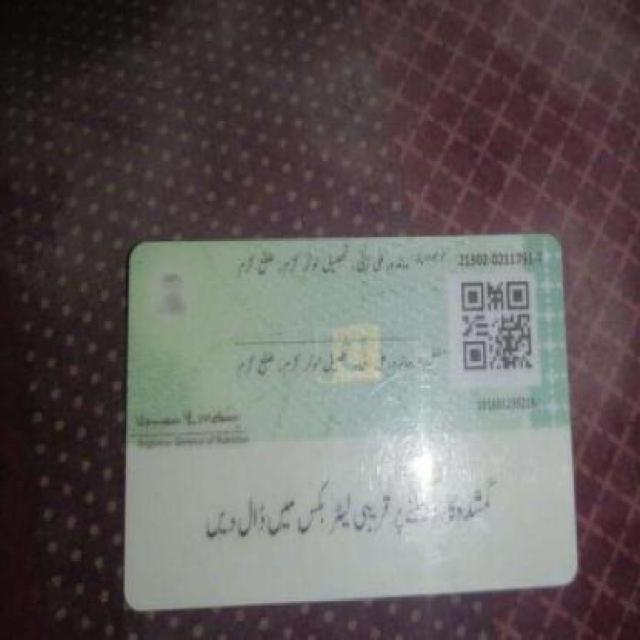Back: (118, 231, 590, 606)
